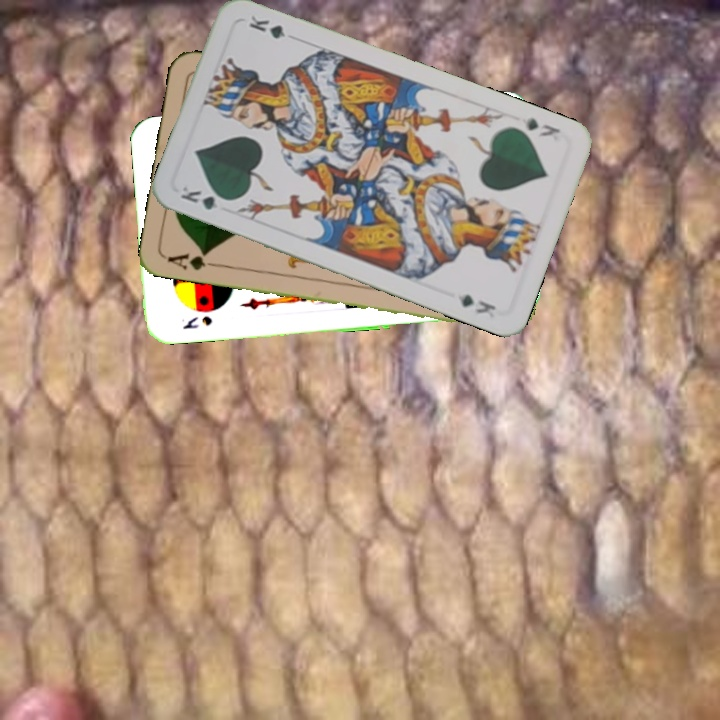GA: (163, 247, 222, 273)
GK: (176, 182, 234, 213), (522, 114, 563, 140)
SK: (177, 312, 215, 332)
